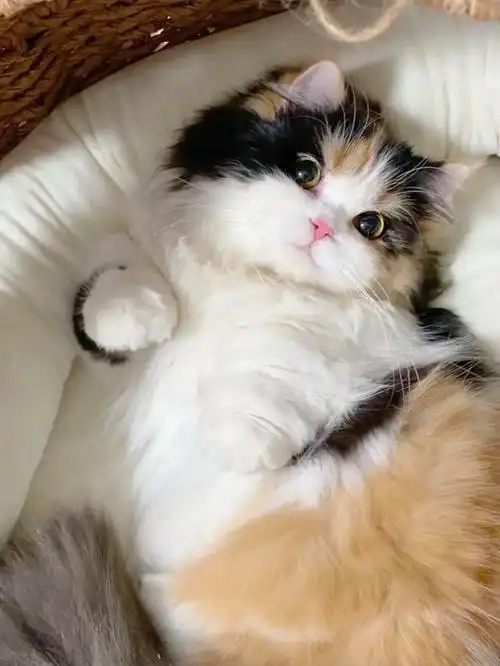三花猫: (165, 61, 464, 453)
